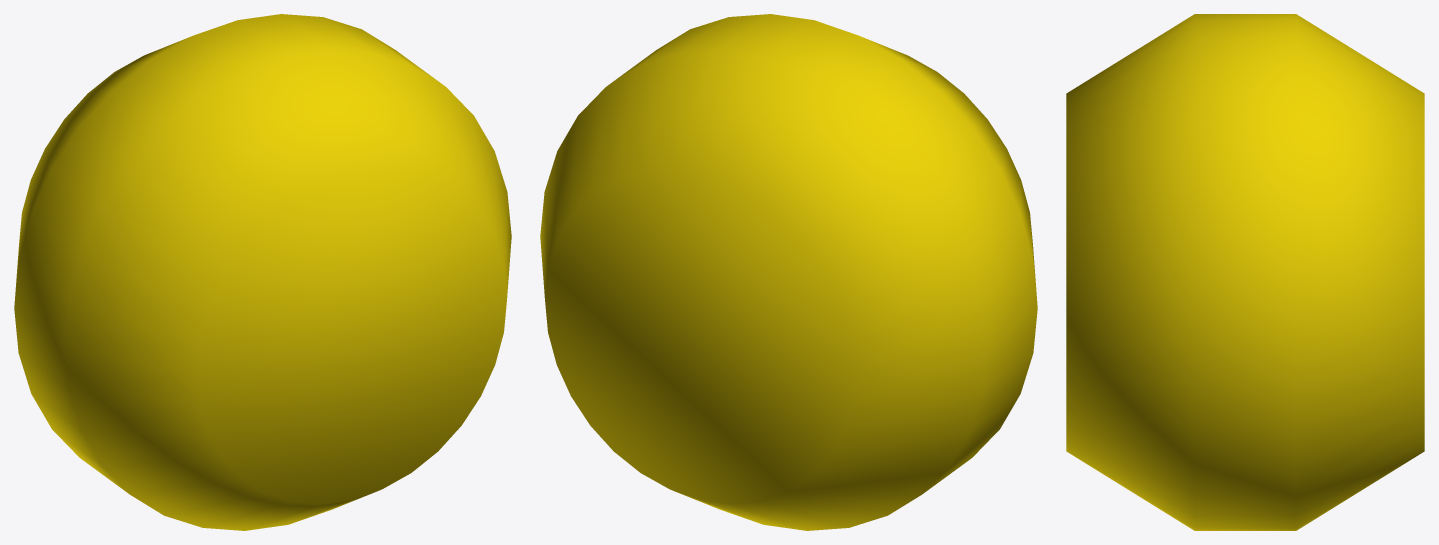
Rendered from blocco2.fbx.
3 renders of one model, left to right at view 1: azimuth 30°, elevation 25°; view 2: azimuth 150°, elevation 25°; view 3: azimuth 270°, elevation 25°, orthographic.
Visible parts, largest first — view 1: Cylinder.028; view 2: Cylinder.028; view 3: Cylinder.028.
Boxes of the visible parts, x1=… form: Cylinder.028: x1=14, y1=14, x2=511, y2=530; Cylinder.028: x1=540, y1=14, x2=1037, y2=530; Cylinder.028: x1=1066, y1=14, x2=1424, y2=530.
Bounding box in the file's own units: 34.41 × 34.41 × 23.82.
